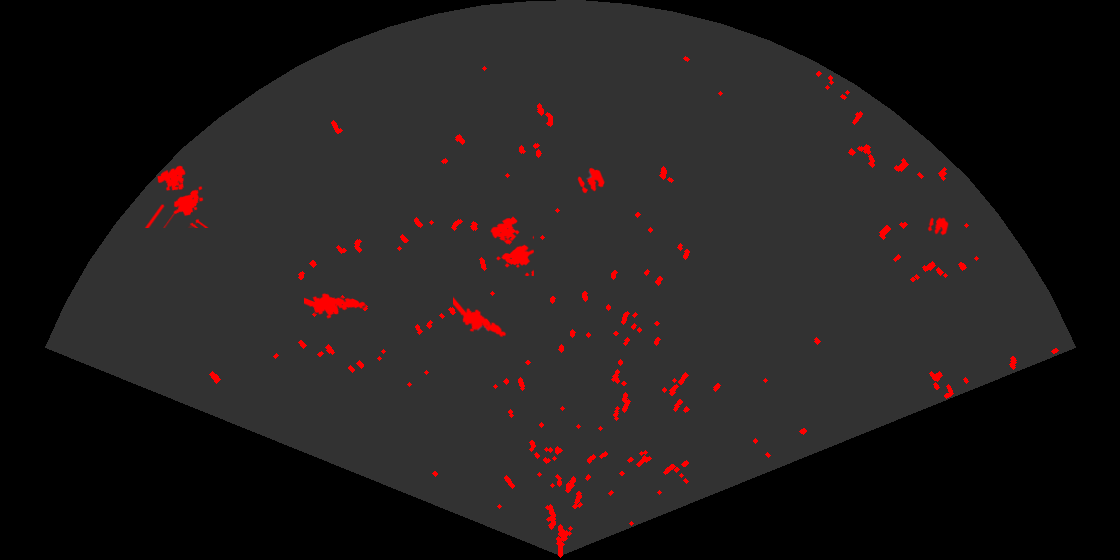ball: (576, 166, 606, 195), (926, 216, 950, 237)
cage: (143, 164, 210, 228), (489, 215, 534, 276)
frogman: (453, 296, 508, 339), (304, 292, 367, 320)
